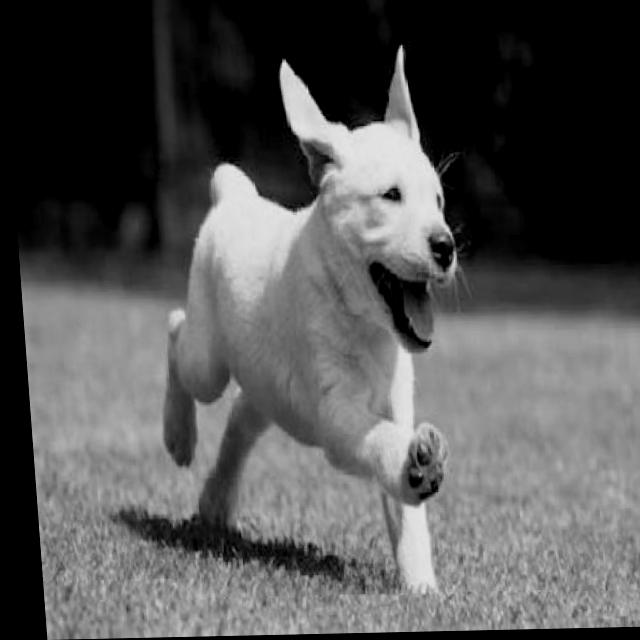Dog: (107, 41, 526, 617)
